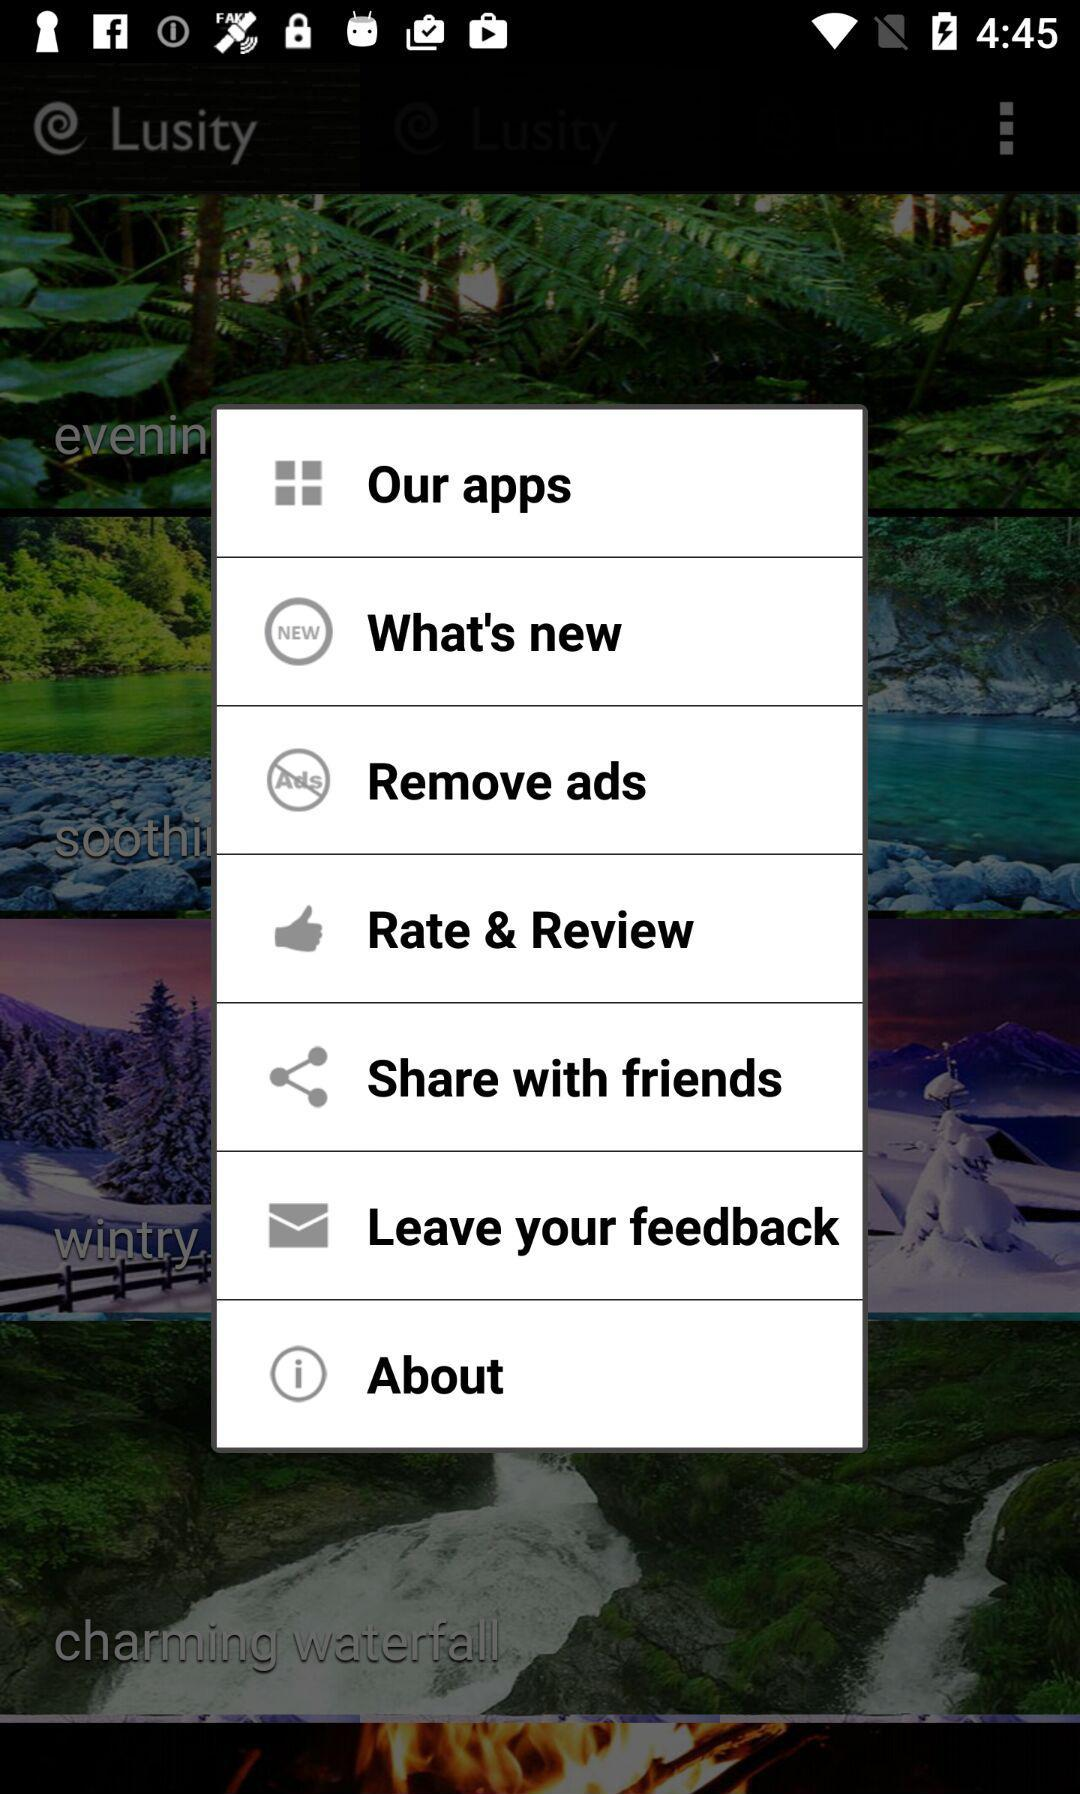Icon: (269, 1044, 331, 1108), (269, 1344, 329, 1404), (268, 1201, 331, 1249), (274, 459, 324, 507), (998, 101, 1015, 158)
Image: (264, 597, 334, 668), (266, 748, 332, 812), (32, 103, 88, 158), (274, 903, 325, 953)
Modal: (211, 404, 869, 1454)
Text: (55, 1617, 498, 1674), (369, 1206, 840, 1258), (368, 1057, 783, 1099), (369, 909, 696, 950), (370, 760, 647, 802), (366, 613, 623, 654), (368, 465, 573, 515), (111, 109, 258, 167), (366, 1354, 505, 1395)
UpperTaskBar: (1, 1, 1080, 64)
